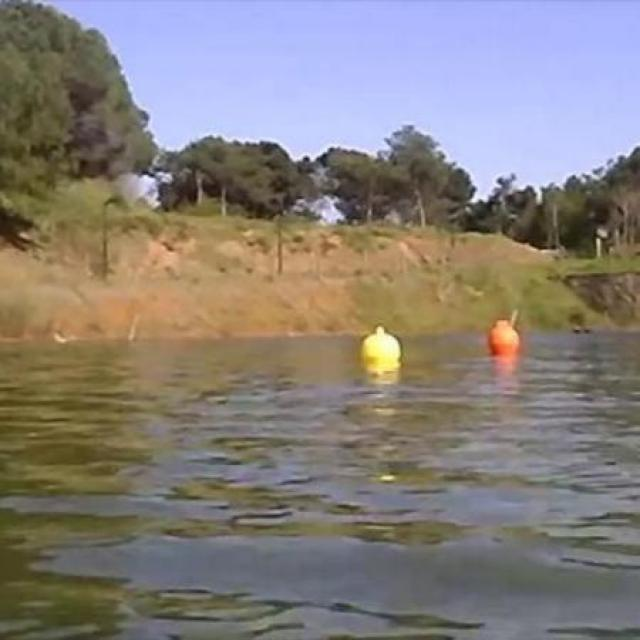buoy: (359, 331, 400, 376), (484, 314, 524, 354)
